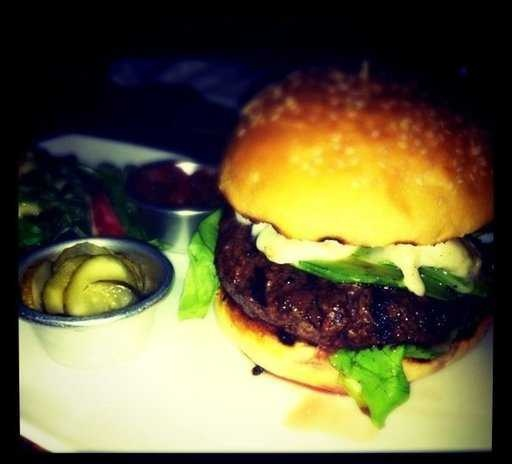hamburger: (221, 58, 477, 412)
